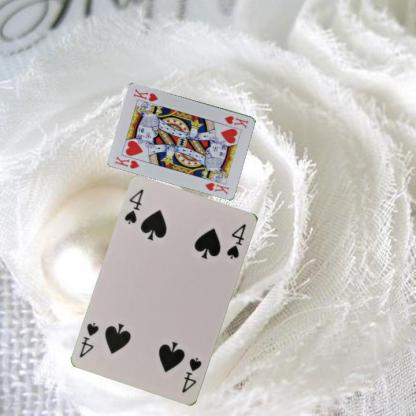4s: (179, 354, 203, 394), (122, 187, 145, 226)
Kh: (113, 153, 141, 170), (222, 114, 249, 130)
